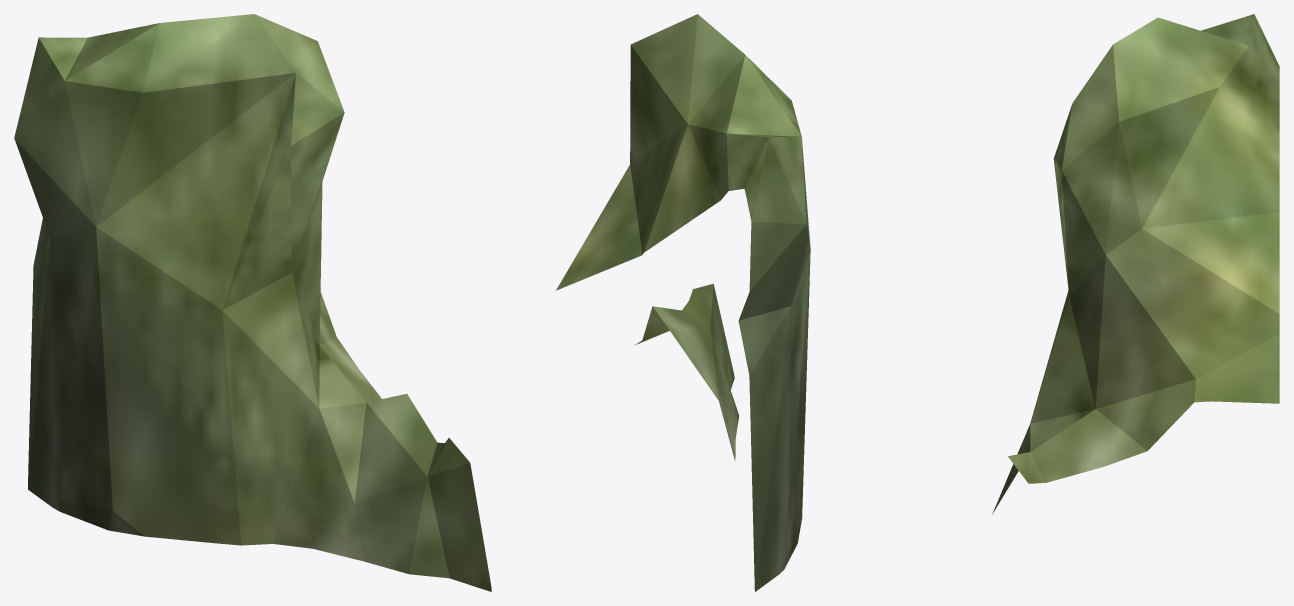
3 views of the same model, side by side, from view 1: azimuth 30°, elevation 25°; view 2: azimuth 150°, elevation 25°; view 3: azimuth 270°, elevation 25° (orthographic). The views are drawn at different scales.
Bounding box in the file's own units: 0.3183 × 0.5526 × 0.442.
1 material, 1 textured.
